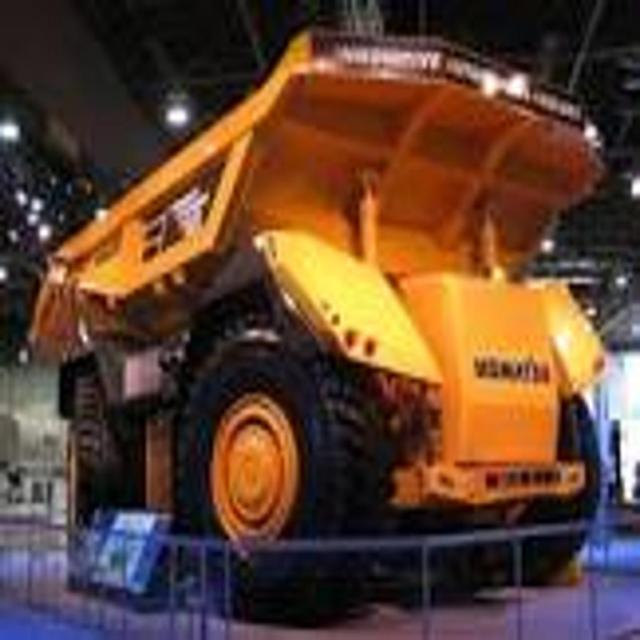dump_truck: (27, 19, 608, 606)
